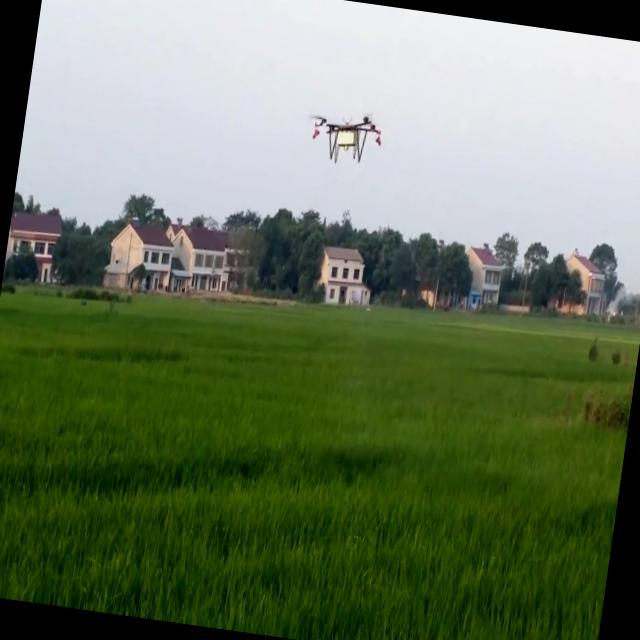drone: (303, 101, 388, 173)
